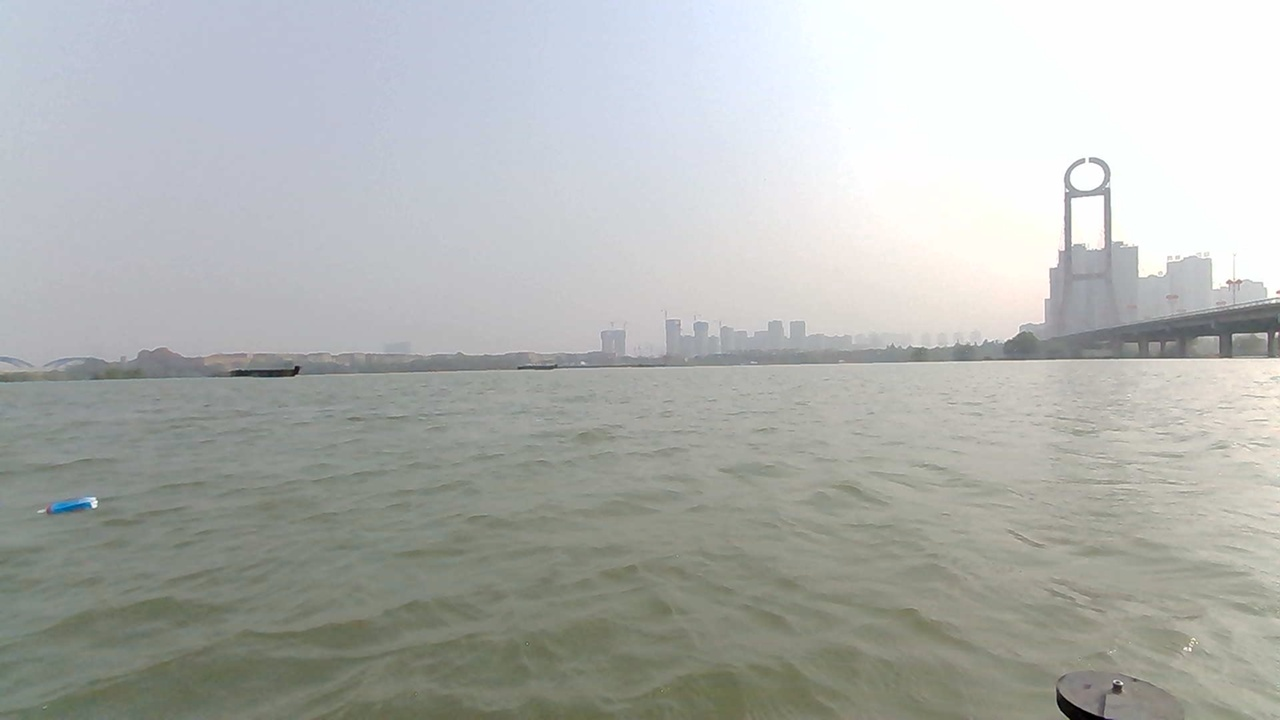bottle: (34, 491, 111, 528)
